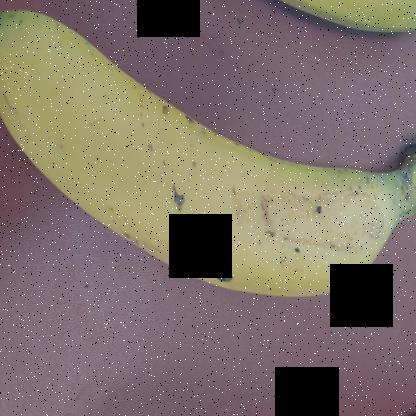ripe: (6, 0, 416, 353)
